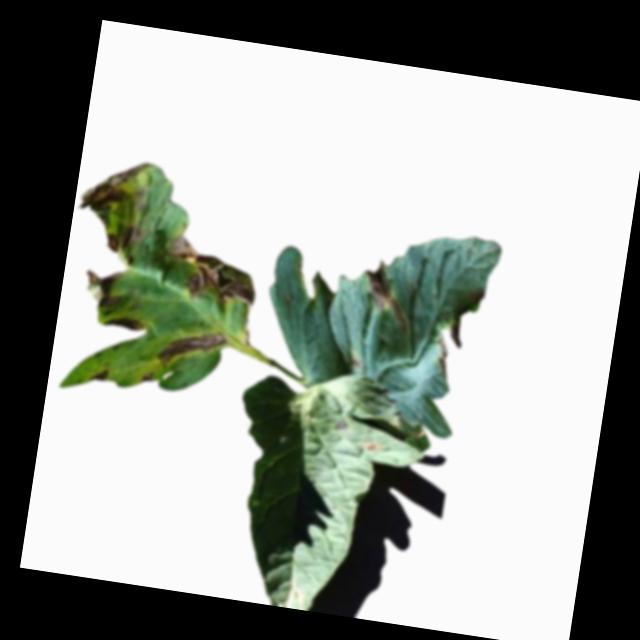Early_blight: (160, 233, 263, 308), (76, 153, 149, 222), (355, 263, 417, 333), (153, 320, 228, 375), (77, 263, 127, 313), (103, 216, 147, 258), (101, 314, 144, 334), (88, 367, 112, 386), (359, 440, 385, 456), (138, 371, 155, 386), (331, 420, 349, 434)
